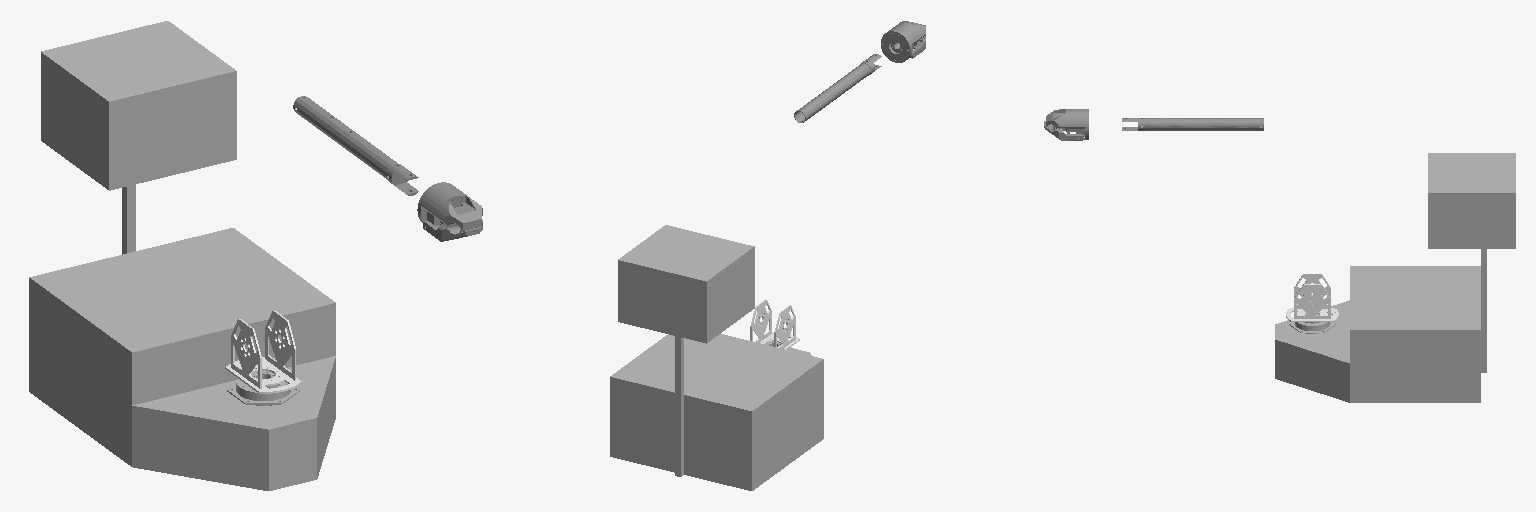
The robot description file, URDF, robot "urc23final_arm":
<?xml version="1.0" encoding="utf-8"?>
<!-- This URDF was automatically created by SolidWorks to URDF Exporter! Originally created by [author] ([email redacted]) 
     Commit Version: 1.6.0-4-g7f85cfe  Build Version: 1.6.7995.38578
     For more information, please see http://wiki.ros.org/sw_urdf_exporter -->
<robot
  name="urc23final_arm">
  <link name="world" />
    <joint name="base_joint" type="fixed">
        <parent link="world" />
        <child link="base_link" />
        <origin rpy="0 0 0" xyz="0.0 0.0 0.17" />
    </joint>

  <link
    name="base_link">
    <inertial>
      <origin
        xyz="0.0603246661212797 0.217515542424428 0.127534424617061"
        rpy="0 0 0" />
      <mass
        value="79.0617361629743" />
      <inertia
        ixx="5.82614585947853"
        ixy="1.70560439059488E-16"
        ixz="-4.09098676431373E-16"
        iyy="4.66673961070968"
        iyz="-1.60173723183888"
        izz="3.60534040101563" />
    </inertial>
    <visual>
      <origin
        xyz="0 0 0"
        rpy="0 0 0" />
      <geometry>
        <mesh
          filename="package://urc23final_arm/meshes/base_link.STL" />
      </geometry>
      <material
        name="">
        <color
          rgba="0.752941176470588 0.752941176470588 0.752941176470588 1" />
      </material>
    </visual>
    <collision>
      <origin
        xyz="0 0 0"
        rpy="0 0 0" />
      <geometry>
        <mesh
          filename="package://urc23final_arm/meshes/base_link.STL" />
      </geometry>
    </collision>
  </link>
  <link
    name="base_rotation">
    <inertial>
      <origin
        xyz="-4.09394740330526E-15 0.0477688408231929 -0.00156120213569086"
        rpy="0 0 0" />
      <mass
        value="0.12637311705397" />
      <inertia
        ixx="0.000285010578626874"
        ixy="5.37348364974634E-22"
        ixz="-1.51854154192275E-20"
        iyy="0.000242437755857635"
        iyz="7.36564926068934E-14"
        izz="0.000138412184731081" />
    </inertial>
    <visual>
      <origin
        xyz="0 0 0"
        rpy="0 0 0" />
      <geometry>
        <mesh
          filename="package://urc23final_arm/meshes/base_rotation.STL" />
      </geometry>
      <material
        name="">
        <color
          rgba="0.96078431372549 0.96078431372549 0.964705882352941 1" />
      </material>
    </visual>
    <collision>
      <origin
        xyz="0 0 0"
        rpy="0 0 0" />
      <geometry>
        <mesh
          filename="package://urc23final_arm/meshes/base_rotation.STL" />
      </geometry>
    </collision>
  </link>
  <joint
    name="base_rotation_joint"
    type="revolute">
    <origin
      xyz="0.060325 -0.11137 0.093049"
      rpy="1.5708 0 0" />
    <parent
      link="base_link" />
    <child
      link="base_rotation" />
    <axis
      xyz="0 -1 0" />
    <limit
      lower="-1.571"
      upper="1.571"
      effort="200"
      velocity="3" />
  </joint>
  <link
    name="shoulder">
    <inertial>
      <origin
        xyz="1.36696209906972E-15 0.229734002557454 -0.0188983810765576"
        rpy="0 0 0" />
      <mass
        value="1.56729214697193" />
      <inertia
        ixx="0.0134535222438073"
        ixy="2.35924360277525E-16"
        ixz="-1.60404400799312E-17"
        iyy="0.00182033898741546"
        iyz="0.000702998589090253"
        izz="0.0124179951223639" />
    </inertial>
    <visual>
      <origin
        xyz="0 0 0"
        rpy="0 0 0" />
      <geometry>
        <mesh
          filename="package://urc23final_arm/meshes/shoulder.STL" />
      </geometry>
      <material
        name="">
        <color
          rgba="0.752941176470588 0.752941176470588 0.752941176470588 1" />
      </material>
    </visual>
    <collision>
      <origin
        xyz="0 0 0"
        rpy="0 0 0" />
      <geometry>
        <mesh
          filename="package://urc23final_arm/meshes/shoulder.STL" />
      </geometry>
    </collision>
  </link>
  <joint
    name="shoulder_rotation"
    type="revolute">
    <origin
      xyz="0 0.085 0"
      rpy="3.1416 0 3.1416" />
    <parent
      link="base_rotation" />
    <child
      link="shoulder" />
    <axis
      xyz="-1 0 0" />
    <limit
      lower="0"
      upper="1.571"
      effort="200"
      velocity="3" />
  </joint>
  <link
    name="elbow">
    <inertial>
      <origin
        xyz="-9.22970098266029E-09 0.0535648381784446 0.000234961157169367"
        rpy="0 0 0" />
      <mass
        value="0.254176145162905" />
      <inertia
        ixx="0.000674443953170071"
        ixy="3.31994866744267E-11"
        ixz="3.01193310138557E-09"
        iyy="0.000207211717182606"
        iyz="1.29972885076442E-06"
        izz="0.000654879861706942" />
    </inertial>
    <visual>
      <origin
        xyz="0 0 0"
        rpy="0 0 0" />
      <geometry>
        <mesh
          filename="package://urc23final_arm/meshes/elbow.STL" />
      </geometry>
      <material
        name="">
        <color
          rgba="0.752941176470588 0.752941176470588 0.752941176470588 1" />
      </material>
    </visual>
    <collision>
      <origin
        xyz="0 0 0"
        rpy="0 0 0" />
      <geometry>
        <mesh
          filename="package://urc23final_arm/meshes/elbow.STL" />
      </geometry>
    </collision>
  </link>
  <joint
    name="elbow_rotation"
    type="revolute">
    <origin
      xyz="0 0.59743 -0.055422"
      rpy="-1.5708 0 0" />
    <parent
      link="shoulder" />
    <child
      link="elbow" />
    <axis
      xyz="-1 0 0" />
    <limit
      lower="0"
      upper="1.571"
      effort="200"
      velocity="3" />
  </joint>
  <link
    name="elbow_link">
    <inertial>
      <origin
        xyz="0.244488163167704 -3.49133739002694E-08 -7.02941262975543E-08"
        rpy="0 0 0" />
      <mass
        value="0.119802792600848" />
      <inertia
        ixx="4.28029579106562E-05"
        ixy="-1.3695670601466E-10"
        ixz="-4.95481348866479E-11"
        iyy="0.00128323794233793"
        iyz="1.71267929875785E-10"
        izz="0.00127976361585783" />
    </inertial>
    <visual>
      <origin
        xyz="0 0 0"
        rpy="0 0 0" />
      <geometry>
        <mesh
          filename="package://urc23final_arm/meshes/elbow_link.STL" />
      </geometry>
      <material
        name="">
        <color
          rgba="0.627450980392157 0.627450980392157 0.627450980392157 1" />
      </material>
    </visual>
    <collision>
      <origin
        xyz="0 0 0"
        rpy="0 0 0" />
      <geometry>
        <mesh
          filename="package://urc23final_arm/meshes/elbow_link.STL" />
      </geometry>
    </collision>
  </link>
  <joint
    name="arm_rotation"
    type="revolute">
    <origin
      xyz="0 0.099935 0"
      rpy="0 0 1.5708" />
    <parent
      link="elbow" />
    <child
      link="elbow_link" />
    <axis
      xyz="-1 0 0" />
    <limit
      lower="-3.142"
      upper="3.142"
      effort="200"
      velocity="3" />
  </joint>
  <link
    name="gripper_truss">
    <inertial>
      <origin
        xyz="0.0865878951517725 -5.79459556671047E-07 0.0124024739381755"
        rpy="0 0 0" />
      <mass
        value="0.169393754164764" />
      <inertia
        ixx="0.000142042181232862"
        ixy="1.13117196478974E-10"
        ixz="-1.02101863730499E-07"
        iyy="9.89074307045755E-05"
        iyz="1.56559194275799E-09"
        izz="6.95333851382358E-05" />
    </inertial>
    <visual>
      <origin
        xyz="0 0 0"
        rpy="0 0 0" />
      <geometry>
        <mesh
          filename="package://urc23final_arm/meshes/gripper_truss.STL" />
      </geometry>
      <material
        name="">
        <color
          rgba="0.752941176470588 0.752941176470588 0.752941176470588 1" />
      </material>
    </visual>
    <collision>
      <origin
        xyz="0 0 0"
        rpy="0 0 0" />
      <geometry>
        <mesh
          filename="package://urc23final_arm/meshes/gripper_truss.STL" />
      </geometry>
    </collision>
  </link>
  <joint
    name="gripper_pitch"
    type="revolute">
    <origin
      xyz="0.443 0 0"
      rpy="1.5708 0 0" />
    <parent
      link="elbow_link" />
    <child
      link="gripper_truss" />
    <axis
      xyz="0 -1 0" />
    <limit
      lower="-0.785"
      upper="0.785"
      effort="200"
      velocity="3" />
  </joint>
  <link
    name="gripper">
    <inertial>
      <origin
        xyz="-0.0486941699774995 0.000202119278247585 -0.0132263797847579"
        rpy="0 0 0" />
      <mass
        value="0.458189452482593" />
      <inertia
        ixx="0.000461729648469846"
        ixy="-1.32210723277576E-06"
        ixz="-8.7077562672622E-05"
        iyy="0.000730350027632024"
        iyz="-3.90609771741417E-06"
        izz="0.000813105761945276" />
    </inertial>
    <visual>
      <origin
        xyz="0 0 0"
        rpy="0 0 0" />
      <geometry>
        <mesh
          filename="package://urc23final_arm/meshes/gripper.STL" />
      </geometry>
      <material
        name="">
        <color
          rgba="0.627450980392157 0.627450980392157 0.627450980392157 1" />
      </material>
    </visual>
    <collision>
      <origin
        xyz="0 0 0"
        rpy="0 0 0" />
      <geometry>
        <mesh
          filename="package://urc23final_arm/meshes/gripper.STL" />
      </geometry>
    </collision>
  </link>
  <joint
    name="gripper_rotation"
    type="revolute">
    <origin
      xyz="0.115 0 0"
      rpy="-1.5708 0 3.1416" />
    <parent
      link="gripper_truss" />
    <child
      link="gripper" />
    <axis
      xyz="-1 0 0" />
    <limit
      lower="-3.142"
      upper="3.142"
      effort="200"
      velocity="3" />
  </joint>
  <link
    name="palm">
    <inertial>
      <origin
        xyz="0.00159163379721702 -0.0612260118797257 -0.00950239244098561"
        rpy="0 0 0" />
      <mass
        value="0.135791988160578" />
      <inertia
        ixx="9.34675406598337E-05"
        ixy="-4.72732461561749E-06"
        ixz="-1.69234792949761E-06"
        iyy="0.000130523988454061"
        iyz="-1.63940602410983E-05"
        izz="0.000198246106172532" />
    </inertial>
    <visual>
      <origin
        xyz="0 0 0"
        rpy="0 0 0" />
      <geometry>
        <mesh
          filename="package://urc23final_arm/meshes/palm.STL" />
      </geometry>
      <material
        name="">
        <color
          rgba="0.627450980392157 0.627450980392157 0.627450980392157 1" />
      </material>
    </visual>
    <collision>
      <origin
        xyz="0 0 0"
        rpy="0 0 0" />
      <geometry>
        <mesh
          filename="package://urc23final_arm/meshes/palm.STL" />
      </geometry>
    </collision>
  </link>
  <joint
    name="palm_joint"
    type="revolute">
    <origin
      xyz="-0.03015 0 0.0266"
      rpy="-0.013031 0 -1.5708" />
    <parent
      link="gripper" />
    <child
      link="palm" />
    <axis
      xyz="-1 0 0" />
    <limit
      lower="0"
      upper="1.571"
      effort="200"
      velocity="3" />
  </joint>
    <transmission name="base_rotation_trans">
        <type>transmission_interface/SimpleTransmission</type>
        <joint name="base_rotation_joint">
            <hardwareInterface>hardware_interface/PositionJointInterface</hardwareInterface>
        </joint>
        <actuator name="base_rotation_motor">
            <hardwareInterface>hardware_interface/PositionJointInterface</hardwareInterface>
            <mechanicalReduction>1</mechanicalReduction>
        </actuator>
    </transmission>
    <transmission name="shoulder_trans">
        <type>transmission_interface/SimpleTransmission</type>
        <joint name="shoulder_rotation">
            <hardwareInterface>hardware_interface/PositionJointInterface</hardwareInterface>
        </joint>
        <actuator name="shoulder_motor">
            <hardwareInterface>hardware_interface/PositionJointInterface</hardwareInterface>
            <mechanicalReduction>1</mechanicalReduction>
        </actuator>
    </transmission>
    <transmission name="elbow_trans">
        <type>transmission_interface/SimpleTransmission</type>
        <joint name="elbow_rotation">
            <hardwareInterface>hardware_interface/PositionJointInterface</hardwareInterface>
        </joint>
        <actuator name="elbow_motor">
            <hardwareInterface>hardware_interface/PositionJointInterface</hardwareInterface>
            <mechanicalReduction>1</mechanicalReduction>
        </actuator>
    </transmission>
    <transmission name="arm_trans">
        <type>transmission_interface/SimpleTransmission</type>
        <joint name="arm_rotation">
            <hardwareInterface>hardware_interface/PositionJointInterface</hardwareInterface>
        </joint>
        <actuator name="arm_motor">
            <hardwareInterface>hardware_interface/PositionJointInterface</hardwareInterface>
            <mechanicalReduction>1</mechanicalReduction>
        </actuator>
    </transmission>
    <transmission name="gripper_truss_trans">
        <type>transmission_interface/SimpleTransmission</type>
        <joint name="gripper_pitch">
            <hardwareInterface>hardware_interface/PositionJointInterface</hardwareInterface>
        </joint>
        <actuator name="gripper_truss_motor">
            <hardwareInterface>hardware_interface/PositionJointInterface</hardwareInterface>
            <mechanicalReduction>1</mechanicalReduction>
        </actuator>
    </transmission>
    <transmission name="gripper_trans">
        <type>transmission_interface/SimpleTransmission</type>
        <joint name="gripper_rotation">
            <hardwareInterface>hardware_interface/PositionJointInterface</hardwareInterface>
        </joint>
        <actuator name="gripper_motor">
            <hardwareInterface>hardware_interface/PositionJointInterface</hardwareInterface>
            <mechanicalReduction>1</mechanicalReduction>
        </actuator>
    </transmission>
    <transmission name="palm_trans">
        <type>transmission_interface/SimpleTransmission</type>
        <joint name="palm_joint">
            <hardwareInterface>hardware_interface/PositionJointInterface</hardwareInterface>
        </joint>
        <actuator name="palm_motor">
            <hardwareInterface>hardware_interface/PositionJointInterface</hardwareInterface>
            <mechanicalReduction>1</mechanicalReduction>
        </actuator>
    </transmission>
    <gazebo>
      <plugin name="control" filename="libgazebo_ros_control.so">
      <robotNamespace>/</robotNamespace>
      </plugin>
    </gazebo>
    <gazebo reference="base_rotation">
        <selfCollide>true</selfCollide>
    </gazebo>
    <gazebo reference="shoulder">
        <selfCollide>true</selfCollide>
    </gazebo>
    <gazebo reference="elbow">
        <selfCollide>true</selfCollide>
    </gazebo>
    <gazebo reference="elbow_link">
        <selfCollide>true</selfCollide>
    </gazebo>
    <gazebo reference="gripper_truss">
        <selfCollide>true</selfCollide>
    </gazebo>
    <gazebo reference="palm">
        <selfCollide>true</selfCollide>
    </gazebo>
    <gazebo reference="gripper">
        <selfCollide>true</selfCollide>
    </gazebo>
    <gazebo reference="base_link">
        <selfCollide>true</selfCollide>
    </gazebo>
</robot>

--- Facts derived from the render (not from the file) ---
The picture shows the robot from 3 angles, left to right: view 1: azimuth 30°, elevation 25°; view 2: azimuth 150°, elevation 25°; view 3: azimuth 270°, elevation 25°; orthographic projection.
Robot: urc23final_arm — 9 links, 8 joints (7 revolute, 1 fixed); root link world; default pose: all joints at 0.
Visible links, largest first — view 1: base_link, base_rotation, elbow_link, gripper, palm; view 2: base_link, base_rotation, elbow_link, gripper; view 3: base_link, elbow_link, base_rotation, gripper.
Link boxes in pixels (left/top/right/bottom): base_link: left=29, top=21, right=335, bottom=490; base_rotation: left=225, top=310, right=301, bottom=393; elbow_link: left=293, top=96, right=418, bottom=195; gripper: left=417, top=182, right=482, bottom=230; palm: left=423, top=220, right=482, bottom=241; base_link: left=610, top=225, right=823, bottom=490; base_rotation: left=750, top=299, right=799, bottom=349; elbow_link: left=794, top=54, right=881, bottom=122; gripper: left=881, top=21, right=925, bottom=62; base_link: left=1275, top=153, right=1515, bottom=402; elbow_link: left=1122, top=118, right=1263, bottom=130; base_rotation: left=1286, top=274, right=1338, bottom=321; gripper: left=1046, top=109, right=1088, bottom=139.
Bounding box of the posed robot: 0.48 × 1.51 × 0.92 m (x, y, z).
Meshes: 8 distinct files referenced, 5 mesh visuals loaded (5 binary STL); not drawn: 3 (reference not matched to a file when rendering).